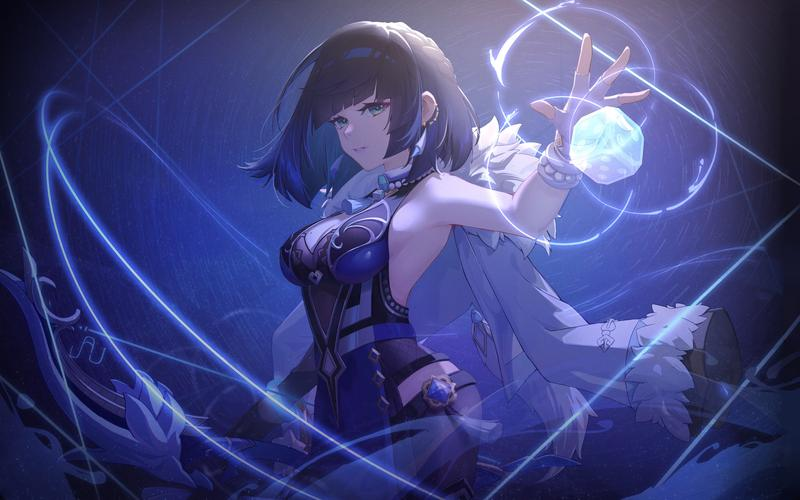夜兰: (277, 24, 651, 500)
